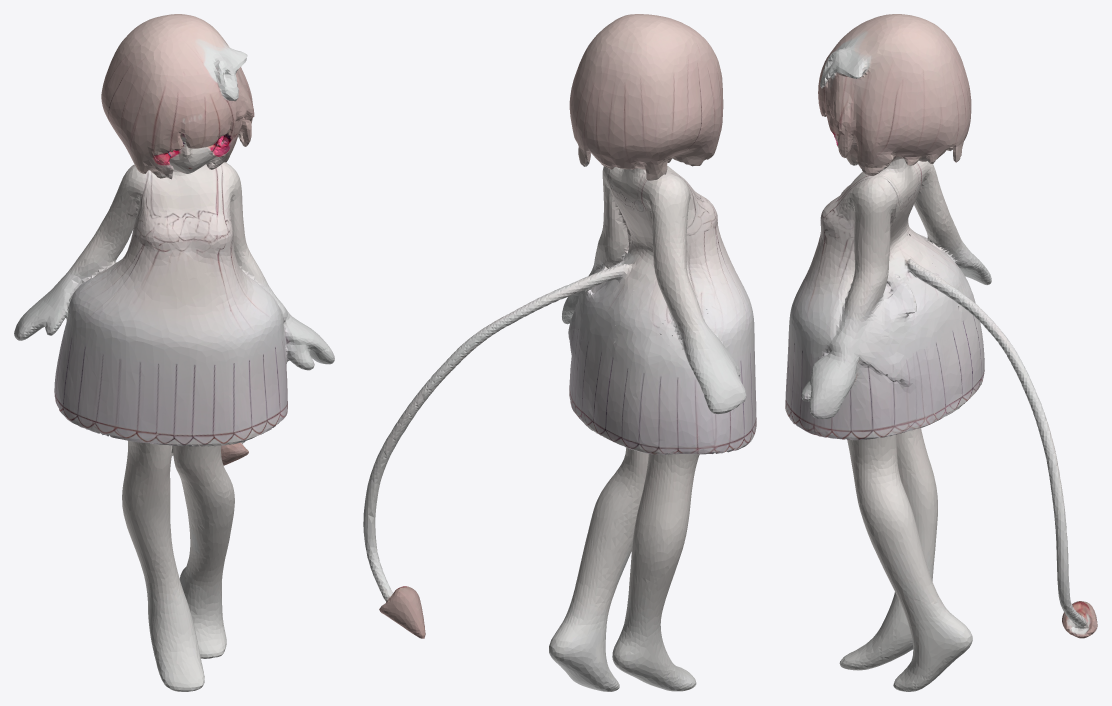
3 renders of one model, left to right at view 1: azimuth 30°, elevation 25°; view 2: azimuth 150°, elevation 25°; view 3: azimuth 270°, elevation 25°, orthographic. The views are drawn at different scales.
Visible parts, largest first — view 1: textured_mesh.obj; view 2: textured_mesh.obj; view 3: textured_mesh.obj.
Part boxes in pixels (box(x1,y1,x2,y2)): textured_mesh.obj: box(14, 14, 334, 691); textured_mesh.obj: box(363, 14, 756, 691); textured_mesh.obj: box(785, 14, 1097, 691).
Bounding box in the file's own units: 1.01 × 1.99 × 0.8629.
Materials: 1 (1 with a texture image).
